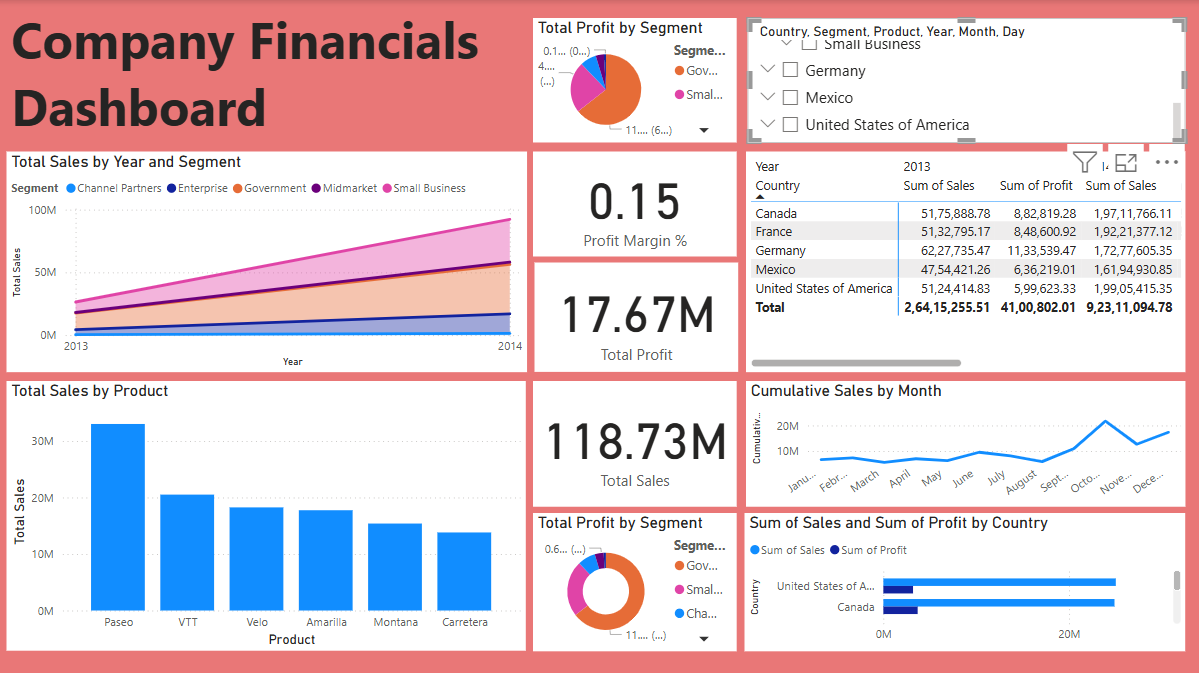

The page's visual inventory and layout, read from the dashboard file:
{"tool":"powerbi","page":{"name":"Page 1","canvas":[1280,720],"ordinal":0},"visuals":[{"type":"card","fields":{"Values":["Financials.Total Sales"]},"box":[14.3,404,216.3,122.5],"z":0},{"type":"card","fields":{"Values":["Financials.Total Profit"]},"box":[11.1,240.2,219.5,154.3],"z":1000},{"type":"card","fields":{"Values":["Financials.Profit Margin %"]},"box":[11.1,89.1,219.5,140],"z":2000},{"type":"lineChart","fields":{"Category":["Financials.Date.Variation.Date Hierarchy.Month"],"Y":["Financials.Cumulative Sales"]},"box":[795.3,404,467.6,133.6],"z":3000},{"type":"clusteredBarChart","fields":{"Y":["Sum(Financials.Sales)","Sum(Financials.Profit)"],"Category":["Financials.Country"]},"box":[795.3,547.2,466,143.2],"z":4000},{"type":"pieChart","fields":{"Category":["Financials.Segment"],"Y":["Financials.Total Profit"]},"box":[12.7,537.6,216.3,152.7],"z":5000},{"type":"columnChart","fields":{"Category":["Financials.Product"],"Y":["Financials.Total Sales"]},"box":[246.5,404,531.3,286.3],"z":6000},{"type":"stackedAreaChart","fields":{"Category":["Financials.Date.Variation.Date Hierarchy.Year","Financials.Date.Variation.Date Hierarchy.Quarter","Financials.Date.Variation.Date Hierarchy.Month","Financials.Date.Variation.Date Hierarchy.Day"],"Series":["Financials.Segment"],"Y":["Financials.Total Sales"]},"box":[795.3,162.2,467.6,232.2],"z":7000},{"type":"pivotTable","fields":{"Rows":["Financials.Country"],"Columns":["Financials.Year"],"Values":["Sum(Financials.Sales)","Sum(Financials.Profit)"]},"box":[246.5,162.2,531.3,232.2],"z":8000},{"type":"slicer","fields":{"Values":["Financials.Country","Financials.Segment","Financials.Product","Financials.Year","Financials.Date.Variation.Date Hierarchy.Month","Financials.Date.Variation.Date Hierarchy.Day"]},"box":[246.5,89.1,781,66.8],"z":9000},{"type":"donutChart","fields":{"Category":["Financials.Segment"],"Y":["Financials.Total Sales"]},"box":[1040.3,9.5,221.1,146.3],"z":10000},{"type":"textbox","box":[14.3,0,800.1,82.7],"z":11000}]}

Visuals, with their boxes in screenshot pixels (x1, y1, x2, y2), scaled from the page's 1280x720 canvas onto the 1199x673 screenshot:
card - Financials.Total Sales: box(13, 378, 216, 492)
card - Financials.Total Profit: box(10, 225, 216, 369)
card - Financials.Profit Margin %: box(10, 83, 216, 214)
lineChart - Financials.Date.Variation.Date Hierarchy.Month x Financials.Cumulative Sales: box(745, 378, 1183, 503)
clusteredBarChart - Sum(Financials.Sales) x Sum(Financials.Profit): box(745, 511, 1181, 645)
pieChart - Financials.Segment x Financials.Total Profit: box(12, 503, 215, 645)
columnChart - Financials.Product x Financials.Total Sales: box(231, 378, 729, 645)
stackedAreaChart - Financials.Date.Variation.Date Hierarchy.Year x Financials.Date.Variation.Date Hierarchy.Quarter: box(745, 152, 1183, 369)
pivotTable - Financials.Country x Financials.Year: box(231, 152, 729, 369)
slicer - Financials.Country x Financials.Segment: box(231, 83, 962, 146)
donutChart - Financials.Segment x Financials.Total Sales: box(974, 9, 1182, 146)
textbox: box(13, 0, 763, 77)
